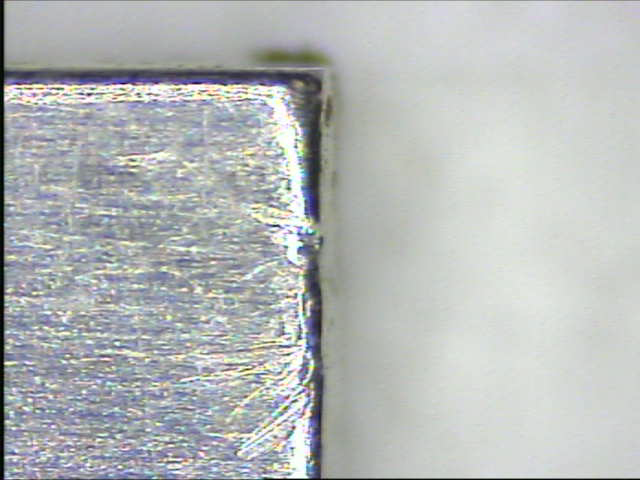edge: (305, 59, 342, 477)
